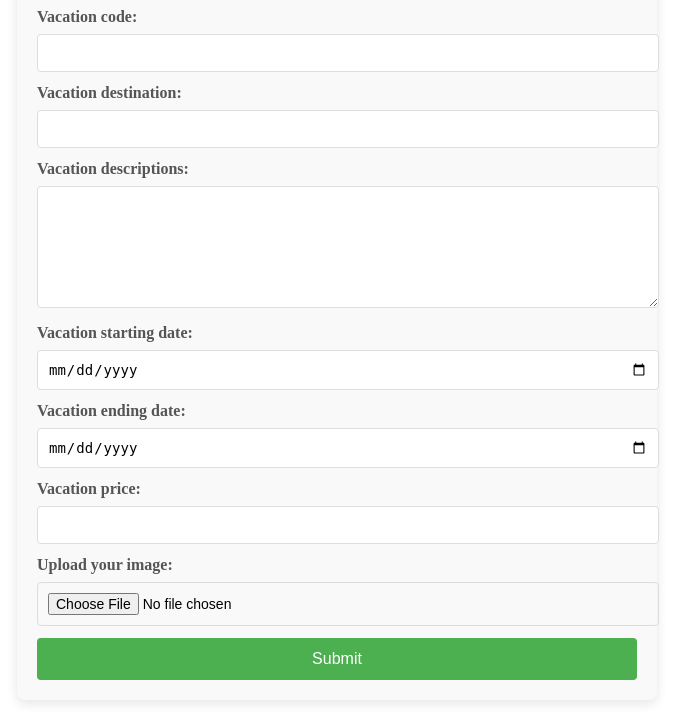
Scenario: NewVacation Component › displays validation errors for empty fields
(page scrolled)
Click the button "Submit".
click(337, 659)  # box x1=37 y1=638 x2=637 y2=680
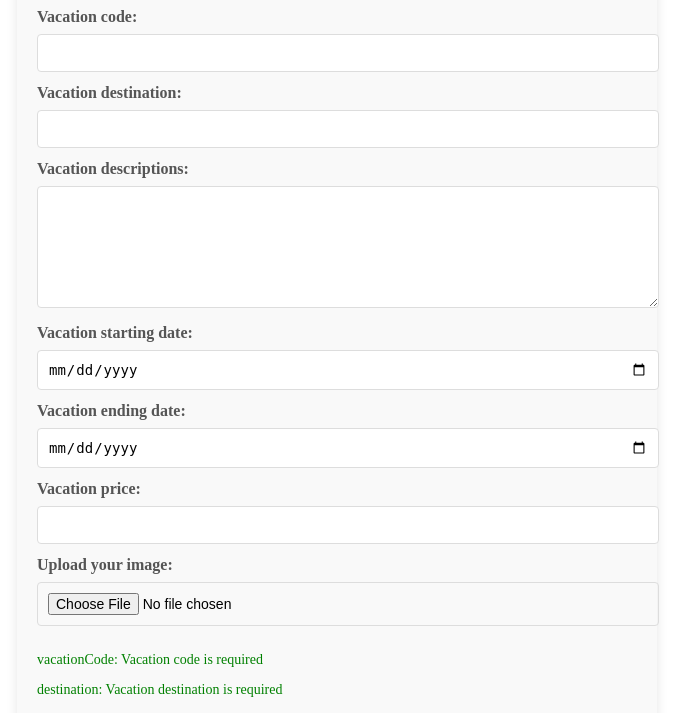
expect the text "vacationCode: Vacation code is required" is shown: met, box x1=37 y1=652 x2=263 y2=667
expect the text "destination: Vacation destination is required" is shown: met, box x1=37 y1=682 x2=282 y2=697
